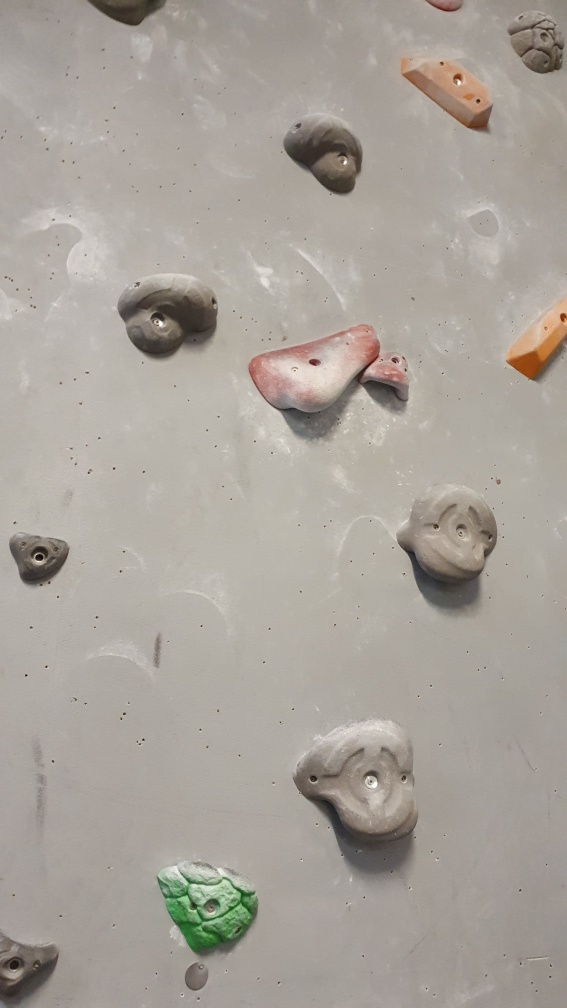Crimp: (4, 526, 72, 588)
Hand Start: (184, 960, 213, 993)
Jug: (289, 717, 420, 845), (395, 481, 500, 590), (114, 271, 222, 363), (284, 112, 363, 194), (504, 6, 567, 79)
Pinch: (397, 52, 500, 134), (502, 292, 567, 383)
